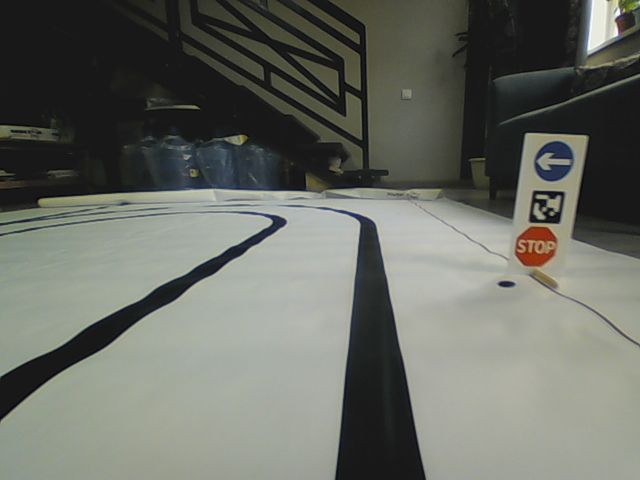Stop: (513, 226, 559, 267)
